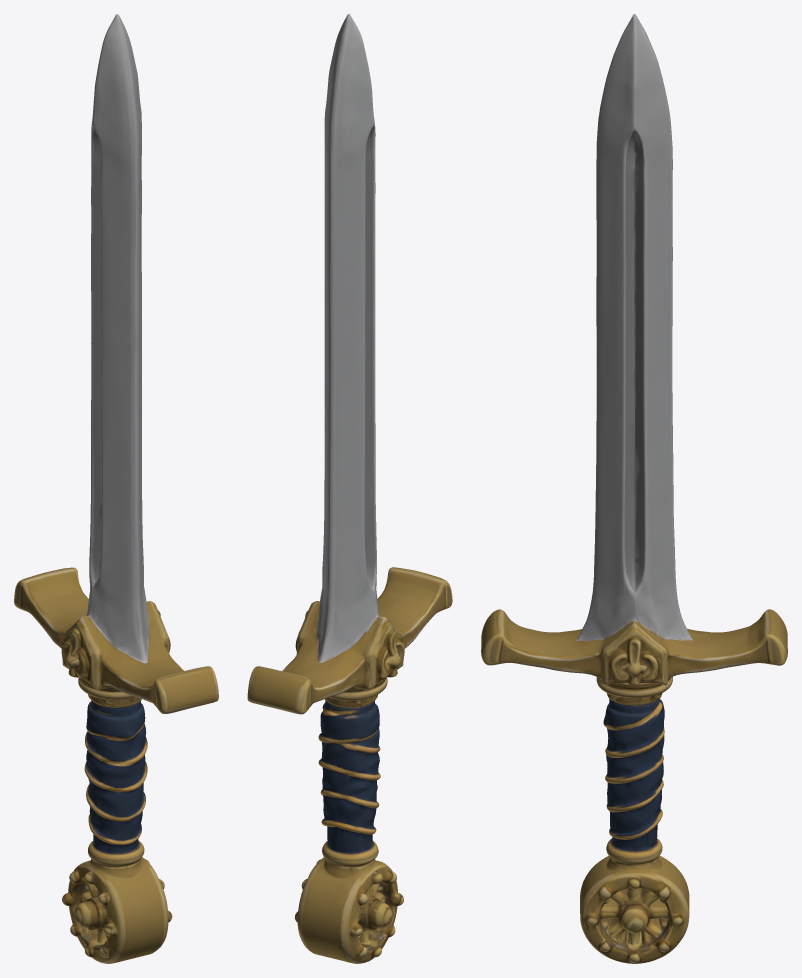
File: sword_keep.glb
The picture shows the model from 3 angles, left to right: view 1: azimuth 30°, elevation 25°; view 2: azimuth 150°, elevation 25°; view 3: azimuth 270°, elevation 25°; orthographic projection.
Visible parts, largest first — view 1: weapon; view 2: weapon; view 3: weapon.
Part boxes in pixels (x1,y1,x2,y2): weapon: [14, 14, 218, 963]; weapon: [247, 14, 452, 963]; weapon: [481, 14, 787, 963].
Size of the model in its own units: 0.1112 by 1 by 0.2958.
1 material, 1 textured.
